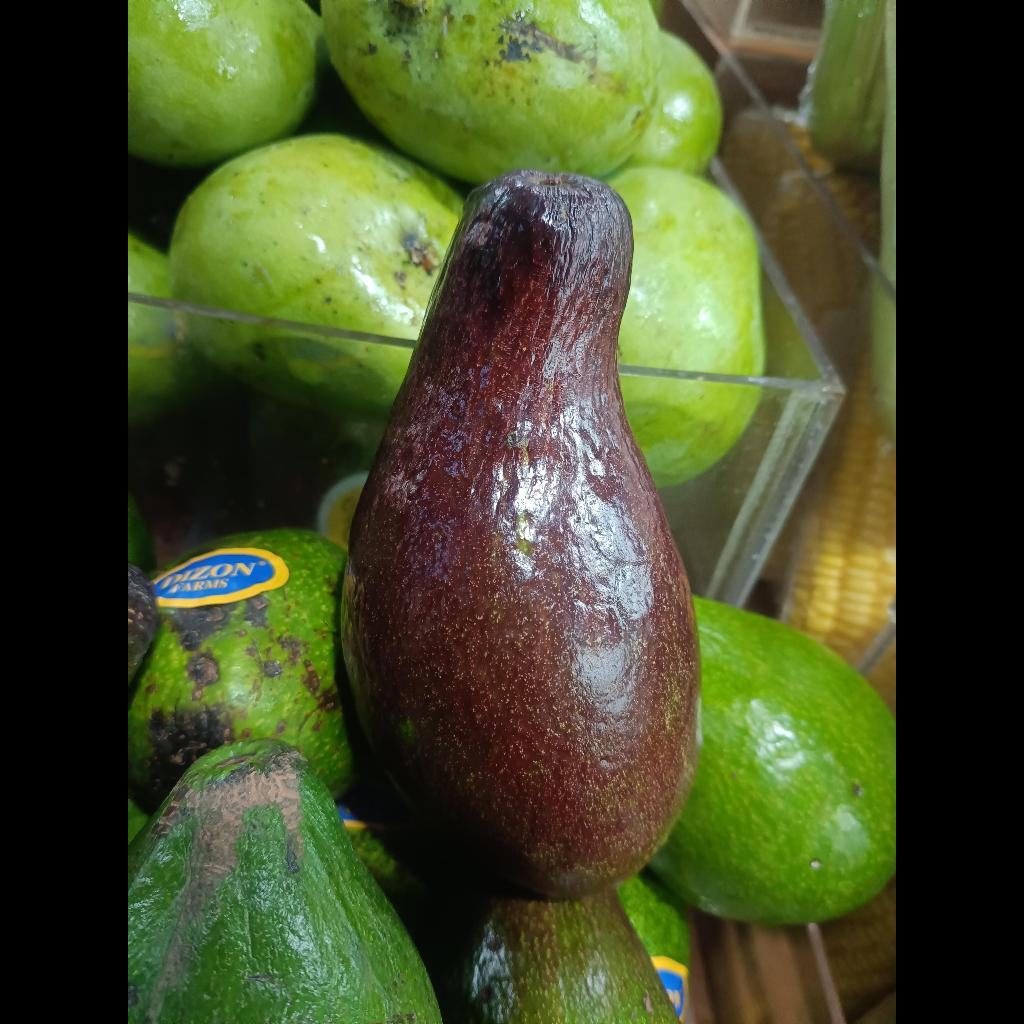anthracnose: (342, 170, 700, 897), (128, 739, 441, 1024)
healthy: (652, 598, 896, 925), (611, 167, 766, 376), (612, 167, 766, 376), (622, 376, 758, 488), (622, 377, 758, 487)
scab: (128, 528, 355, 806)
